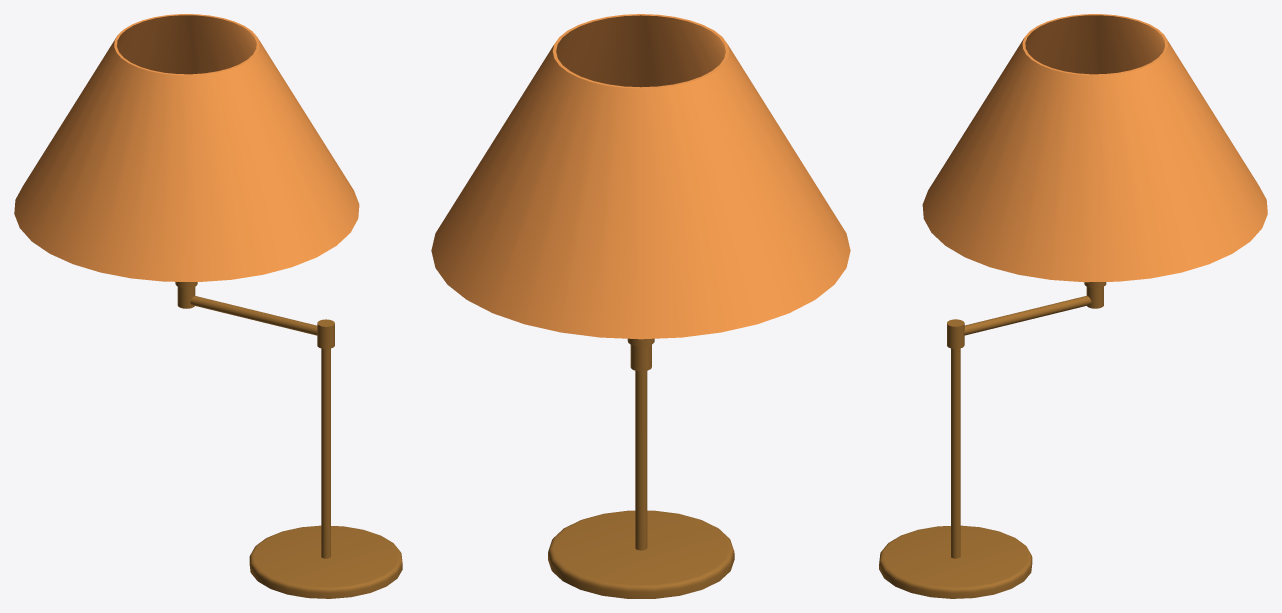
The model's file is Desk_Lamp.glb.
The picture shows the model from 3 angles, left to right: view 1: azimuth 30°, elevation 25°; view 2: azimuth 150°, elevation 25°; view 3: azimuth 270°, elevation 25°; orthographic projection. The views are drawn at different scales.
Parts seen in each view (by area): view 1: Lamp0_Selectable; view 2: Lamp0_Selectable; view 3: Lamp0_Selectable.
Part boxes in pixels (<box>): Lamp0_Selectable: <box>14,14,402,598</box>; Lamp0_Selectable: <box>431,14,850,598</box>; Lamp0_Selectable: <box>879,14,1267,598</box>.
Bounding box in the file's own units: 0.3331 × 0.5193 × 0.375.
